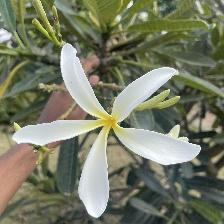champaka: (14, 40, 205, 222)
